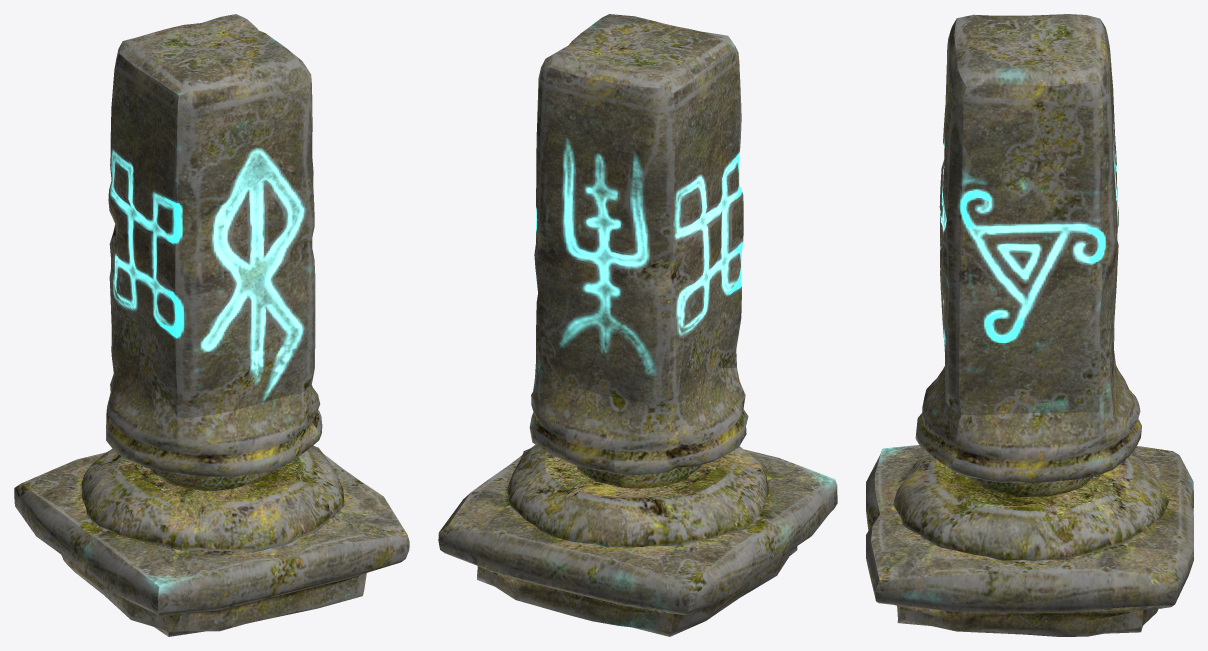
File: obelisk.glb
3 views of the same model, side by side, from view 1: azimuth 30°, elevation 25°; view 2: azimuth 150°, elevation 25°; view 3: azimuth 270°, elevation 25° (orthographic). The views are drawn at different scales.
Visible parts, largest first — view 1: TopBit, Base; view 2: TopBit, Base; view 3: TopBit, Base.
Part boxes in pixels (x1=…): TopBit: x1=106, y1=14, x2=322, y2=477; Base: x1=14, y1=445, x2=409, y2=636; TopBit: x1=529, y1=14, x2=748, y2=475; Base: x1=438, y1=444, x2=837, y2=636; TopBit: x1=915, y1=14, x2=1141, y2=483; Base: x1=866, y1=445, x2=1193, y2=636.
Bounding box in the file's own units: 2.69 × 4.9 × 2.69.
Materials: 1 (1 with a texture image).
